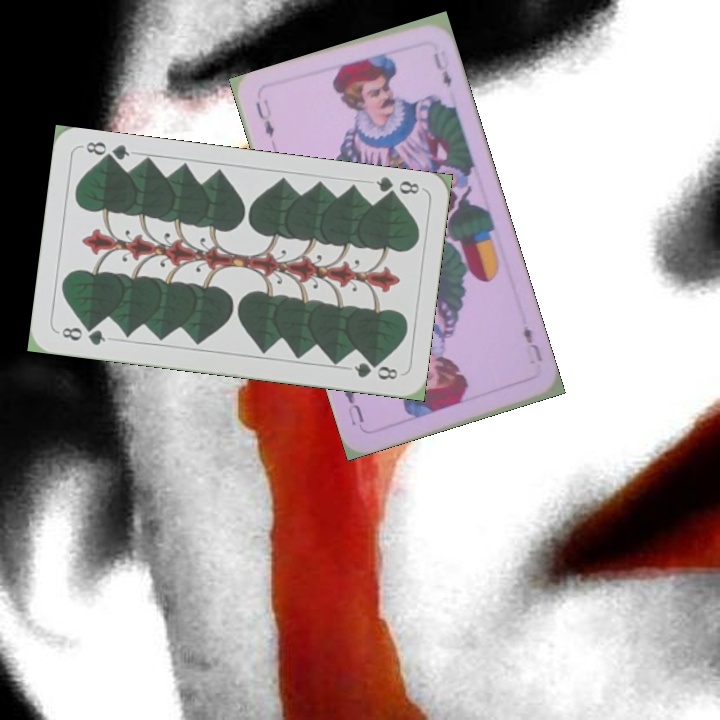EU: (251, 95, 277, 141), (519, 322, 546, 364)
G8: (371, 173, 422, 202), (54, 322, 108, 348)
